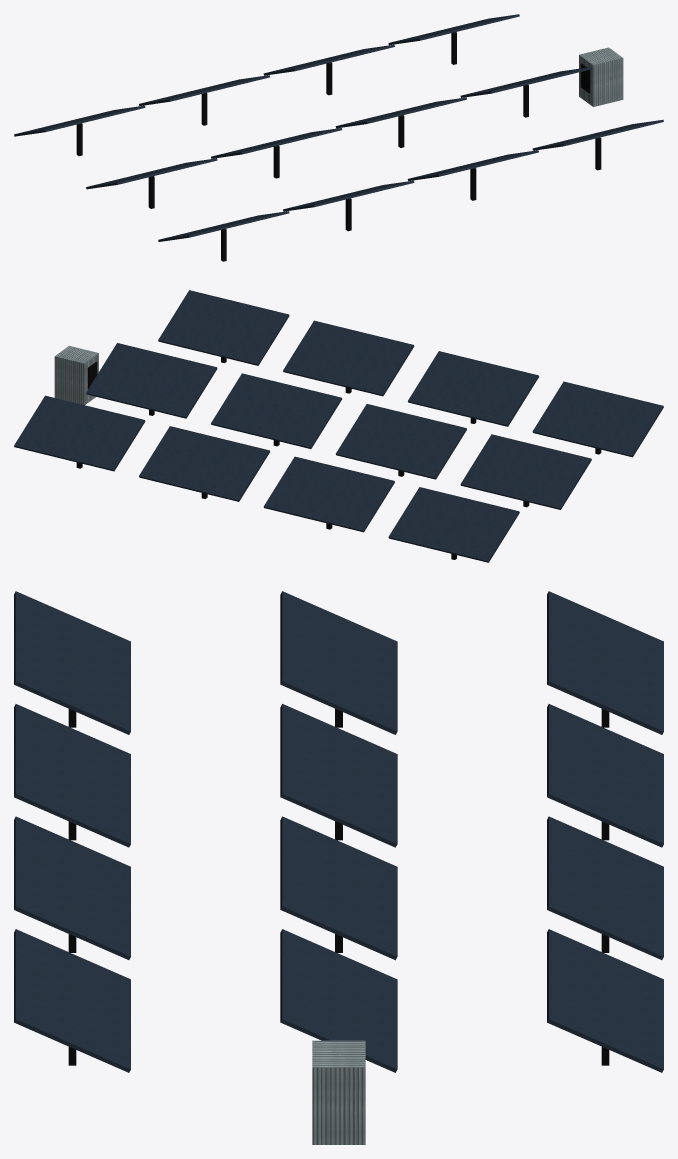
The model's file is solar_farm_01.glb.
3 views of the same model, one above another, from view 1: azimuth 30°, elevation 25°; view 2: azimuth 150°, elevation 25°; view 3: azimuth 270°, elevation 25° (orthographic). The views are drawn at different scales.
Visible parts, largest first — view 1: solar_farm_01; view 2: solar_farm_01; view 3: solar_farm_01.
Boxes of the visible parts, x1=… form: solar_farm_01: x1=14, y1=14, x2=663, y2=261; solar_farm_01: x1=14, y1=290, x2=663, y2=562; solar_farm_01: x1=14, y1=591, x2=663, y2=1144.
Size of the model in its own units: 20.6 by 1.86 by 12.2.
Materials: 3 (3 with a texture image).
